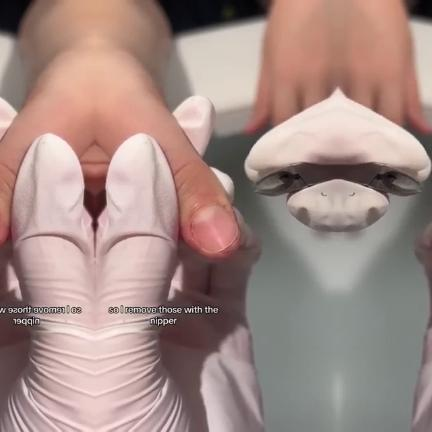Nail: (190, 205, 238, 254)
